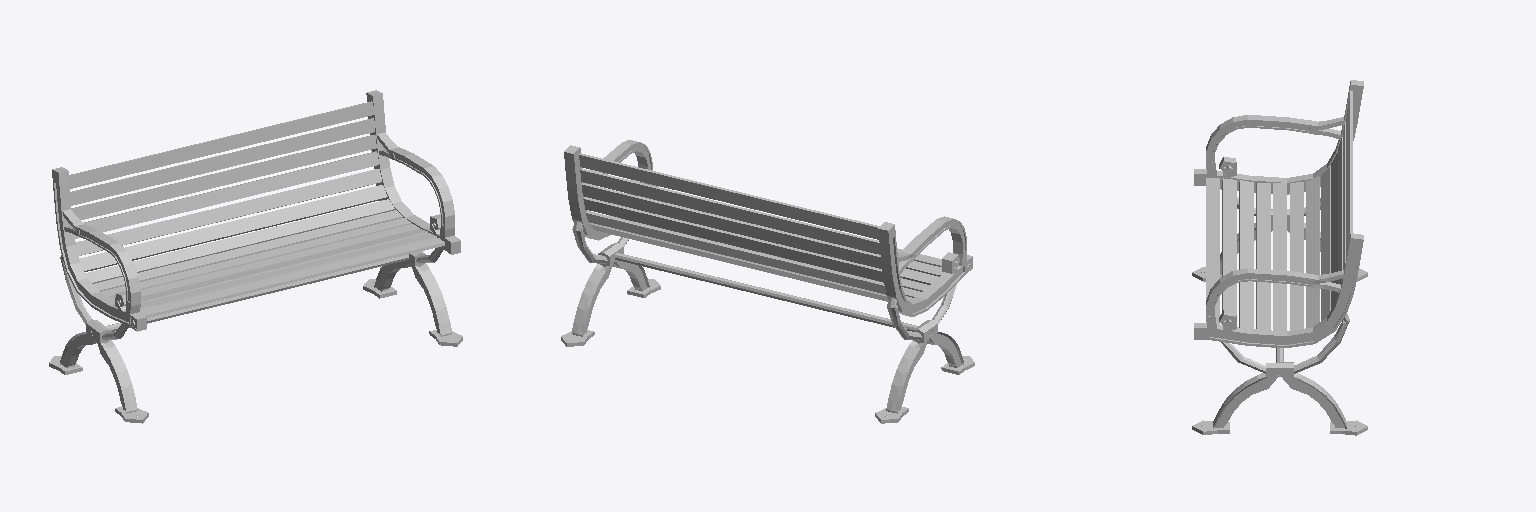
File: bench.obj
The picture shows the model from 3 angles: view 1: azimuth 30°, elevation 25°; view 2: azimuth 150°, elevation 25°; view 3: azimuth 270°, elevation 25°; orthographic projection.
Parts seen in each view (by area): view 1: LoD_1_Untitled.001, LoD_0_Untitled; view 2: LoD_0_Untitled, LoD_1_Untitled.001; view 3: LoD_1_Untitled.001, LoD_0_Untitled.
Part boxes in pixels (left/top/right/bottom): LoD_1_Untitled.001: left=52, top=90, right=462, bottom=422; LoD_0_Untitled: left=49, top=90, right=460, bottom=423; LoD_0_Untitled: left=564, top=141, right=974, bottom=423; LoD_1_Untitled.001: left=561, top=140, right=972, bottom=422; LoD_1_Untitled.001: left=1192, top=80, right=1367, bottom=435; LoD_0_Untitled: left=1192, top=80, right=1367, bottom=431.
Size of the model in its own units: 1.76 by 0.9685 by 0.7941.